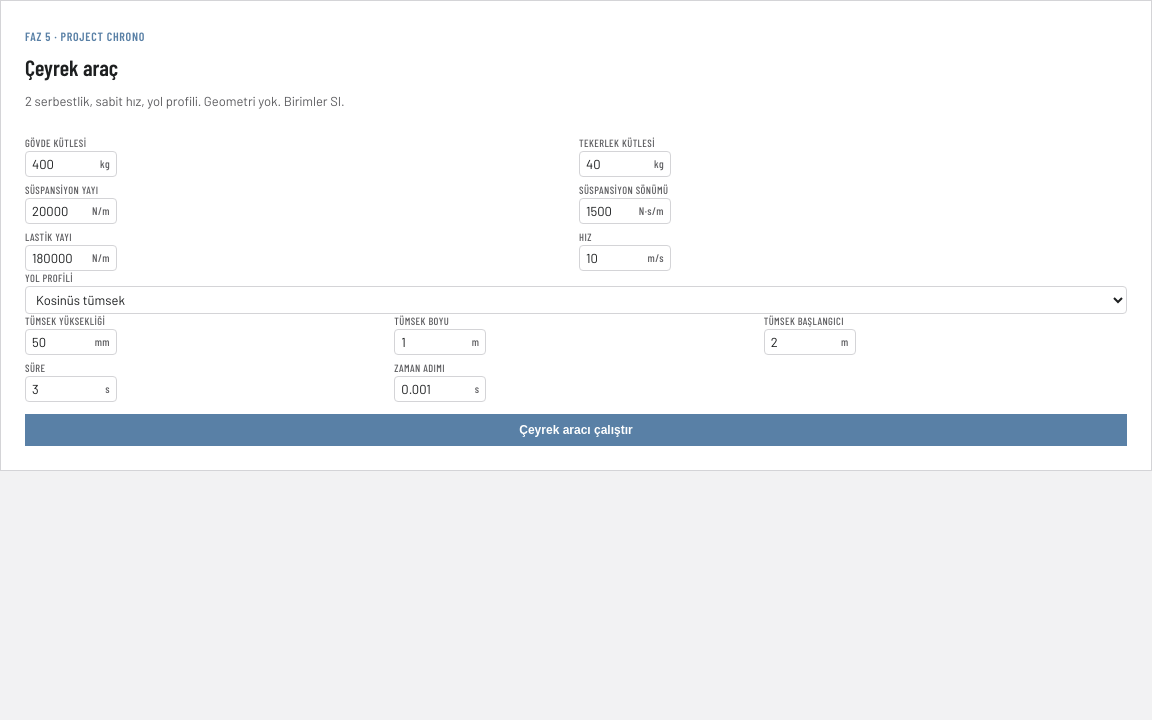
Test: MbdPanel (MBD · çeyrek araç) › geçersiz kütlede isteği göndermez
The image size is (1152, 720).
Replace the text in the field labelled "Gövde kütlesi" with "0" at (60, 164), box [26,152,94,176]
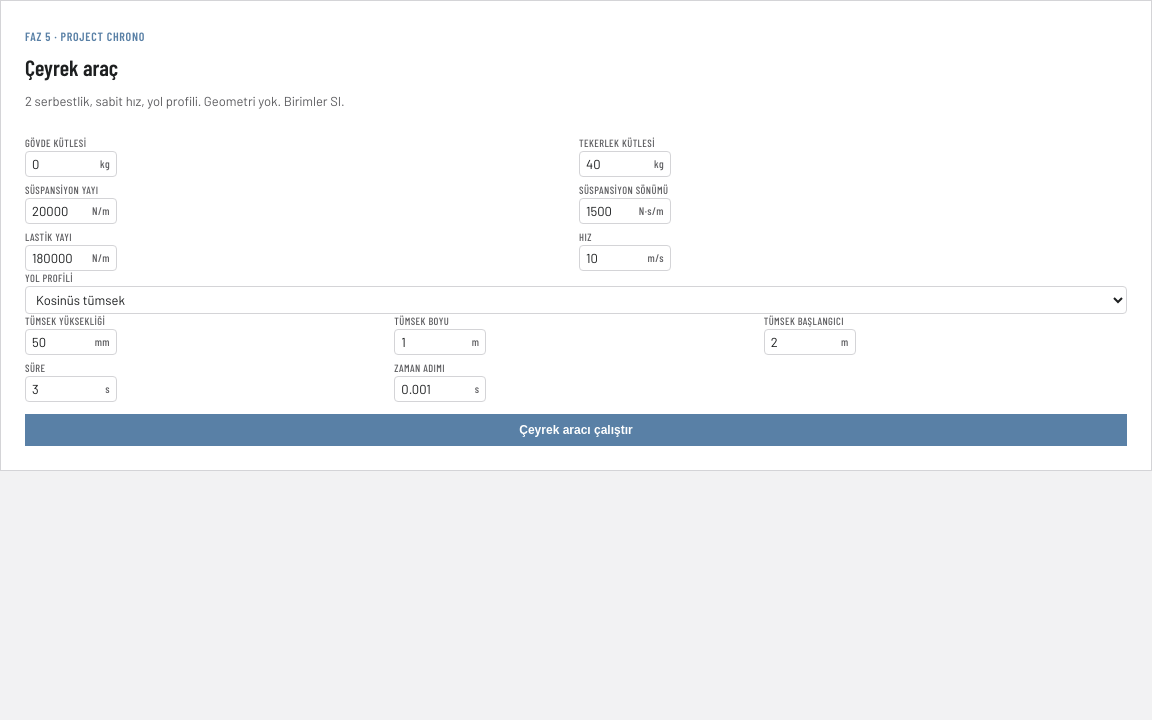
Click the button "Çeyrek aracı çalıştır".
click(576, 430)  # box [25,414,1127,446]
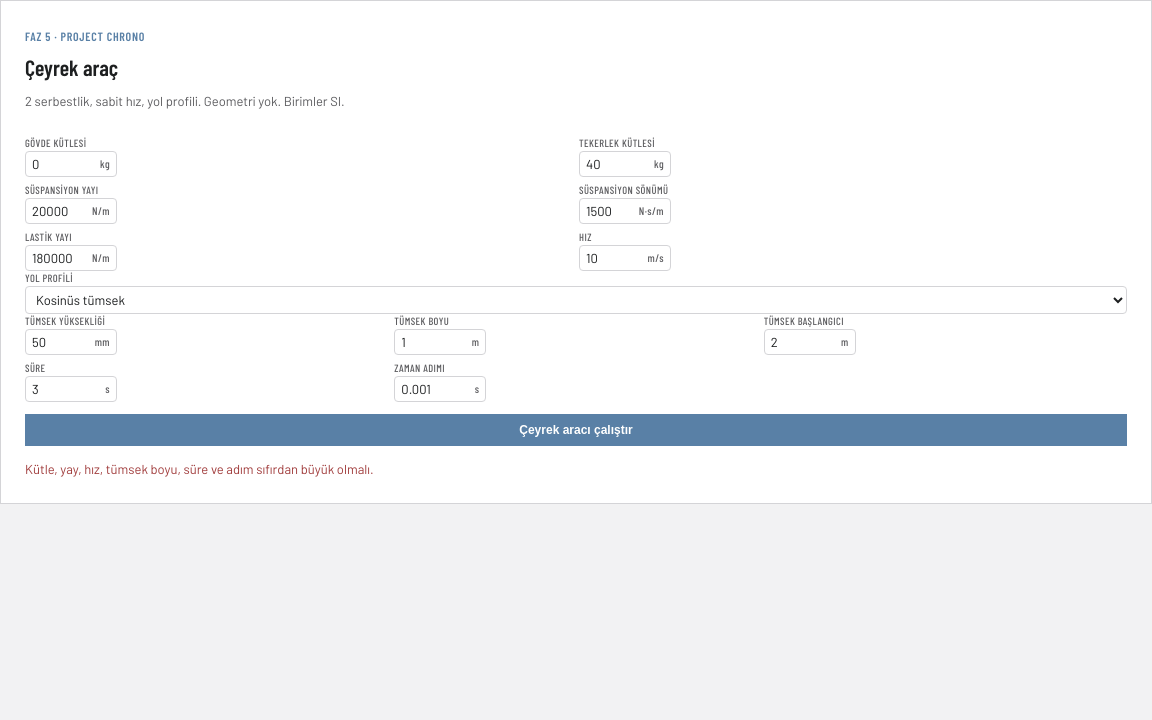
Now the message shows "sıfırdan büyük", box [25,461,374,477]
